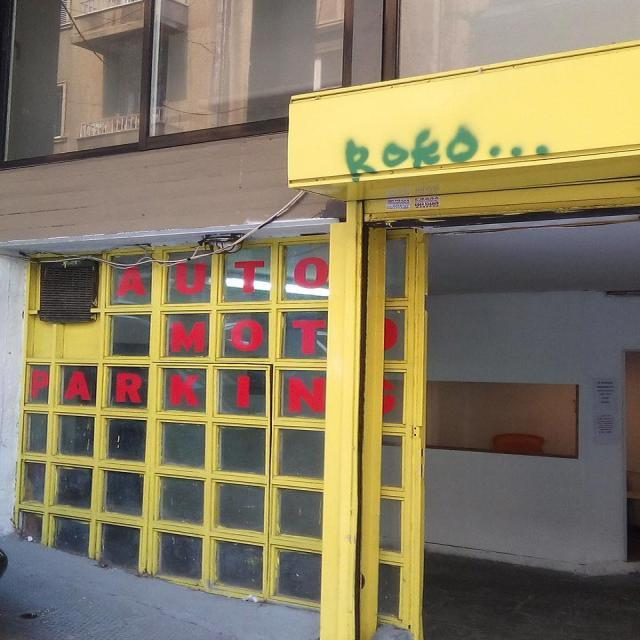nonspitting: (345, 122, 549, 182)
